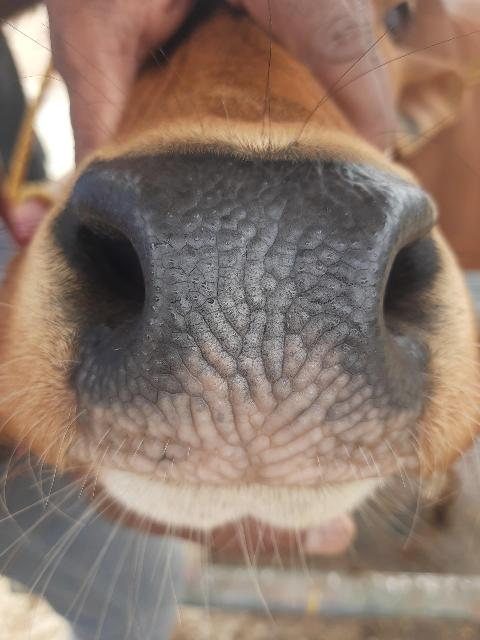Muzzle: (78, 173, 415, 471)
